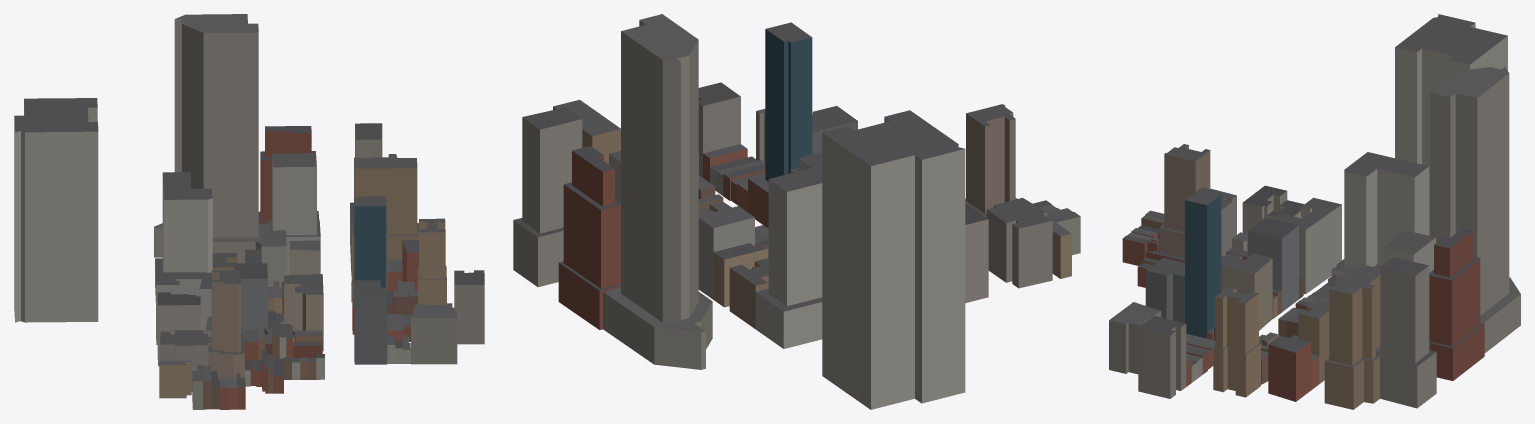
The model's file is 2_-4.far.glb.
3 renders of one model, left to right at view 1: azimuth 30°, elevation 25°; view 2: azimuth 150°, elevation 25°; view 3: azimuth 270°, elevation 25°, orthographic. The views are drawn at different scales.
Parts seen in each view (by area): view 1: 2_-4_far; view 2: 2_-4_far; view 3: 2_-4_far.
Boxes of the visible parts, box(x1,y1,x2,y2) form: 2_-4_far: box(14, 14, 484, 409); 2_-4_far: box(513, 14, 1080, 409); 2_-4_far: box(1109, 14, 1520, 409).
Bounding box in the file's own units: 314 × 192 × 285.
